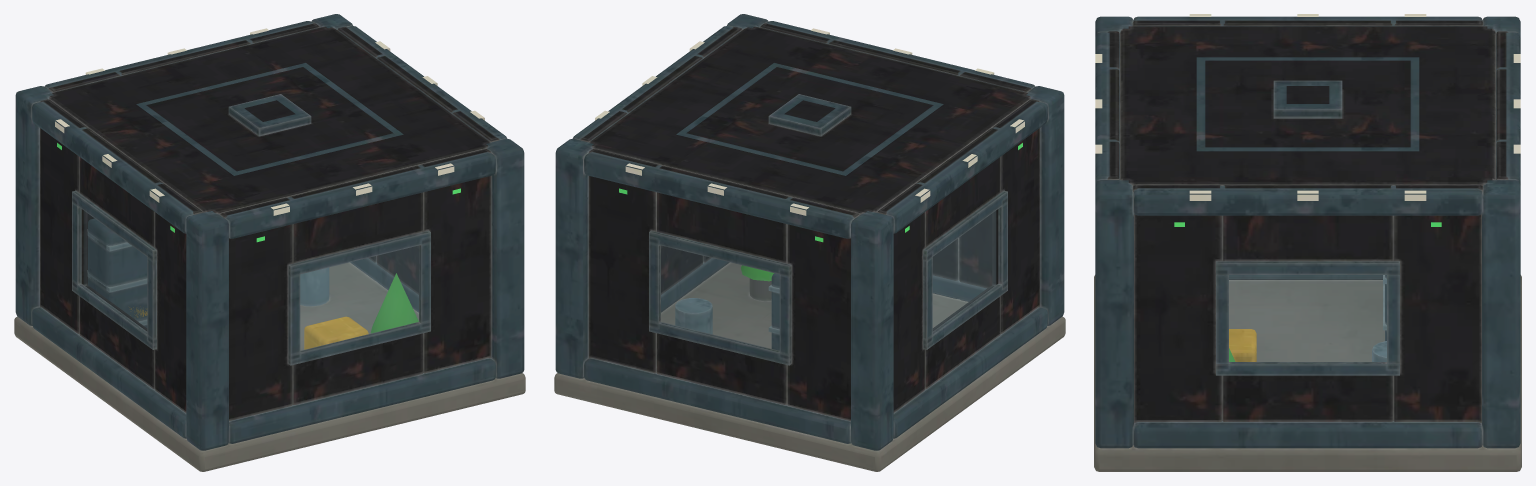
Rendered from hull_airtight_closed.glb.
3 views of the same model, side by side, from view 1: azimuth 30°, elevation 25°; view 2: azimuth 150°, elevation 25°; view 3: azimuth 270°, elevation 25° (orthographic). The views are drawn at different scales.
Parts seen in each view (by area): view 1: te_hull_airtight_closed; view 2: te_hull_airtight_closed; view 3: te_hull_airtight_closed.
Boxes of the visible parts, left/top/right/bottom form: te_hull_airtight_closed: left=14, top=14, right=525, bottom=471; te_hull_airtight_closed: left=554, top=14, right=1065, bottom=471; te_hull_airtight_closed: left=1094, top=14, right=1521, bottom=471.
Bounding box in the file's own units: 1 × 0.7446 × 1.
2 materials, 1 textured.
